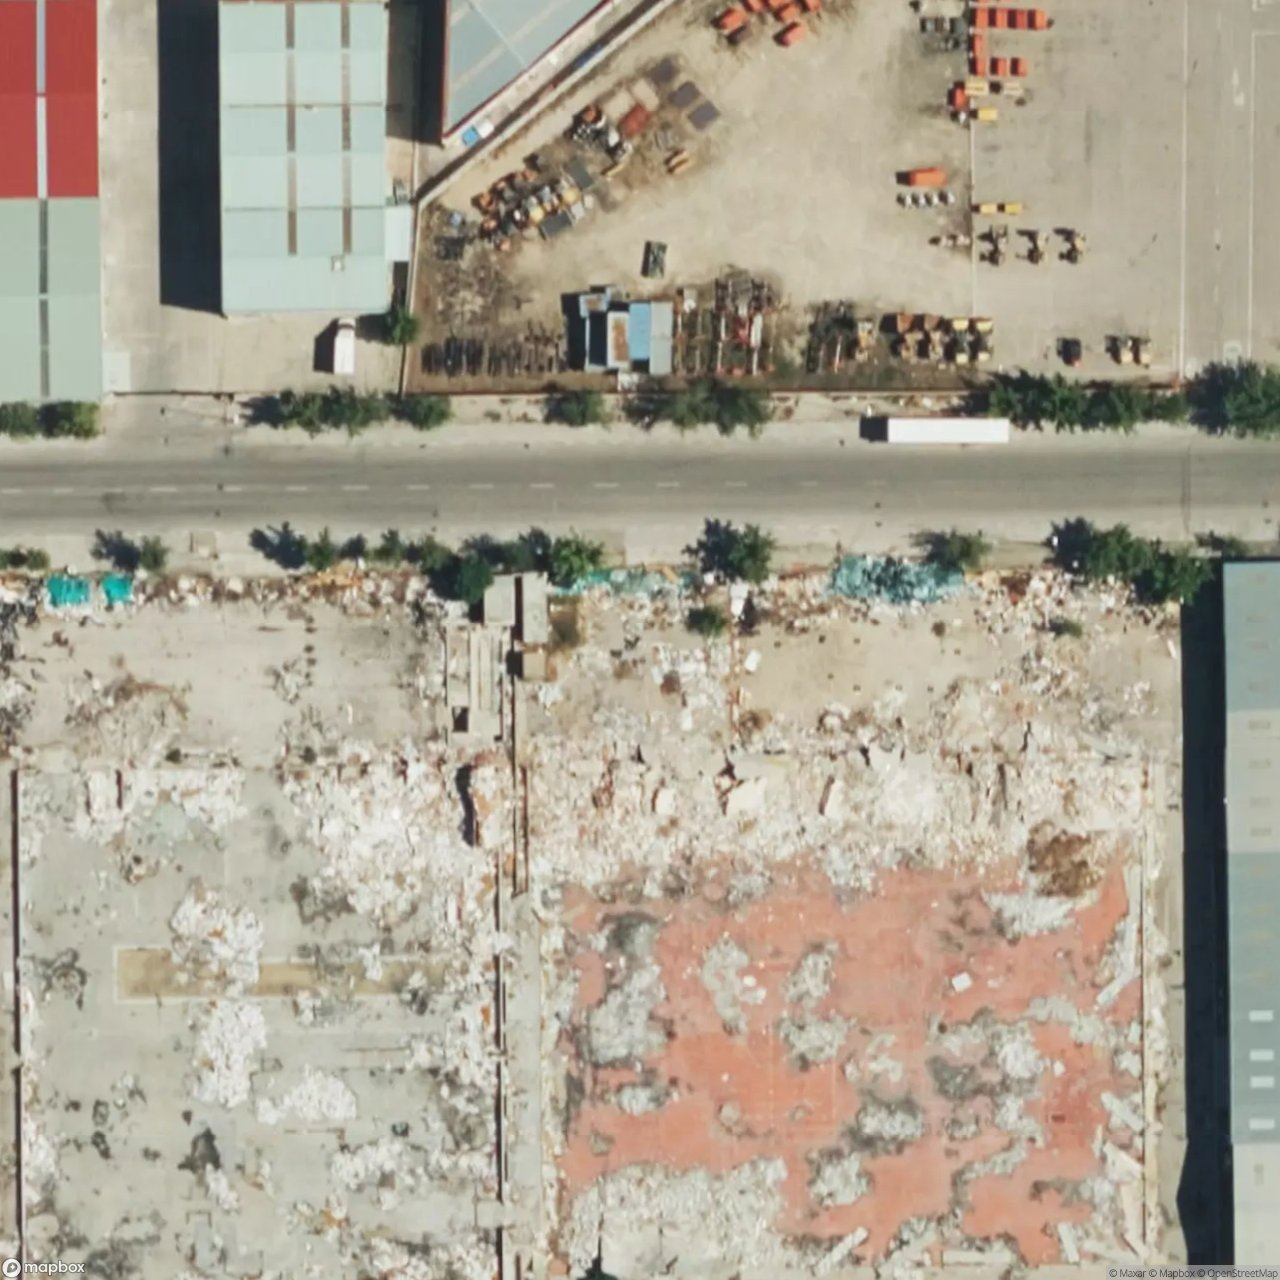dump_site: (181, 998, 268, 1115)
